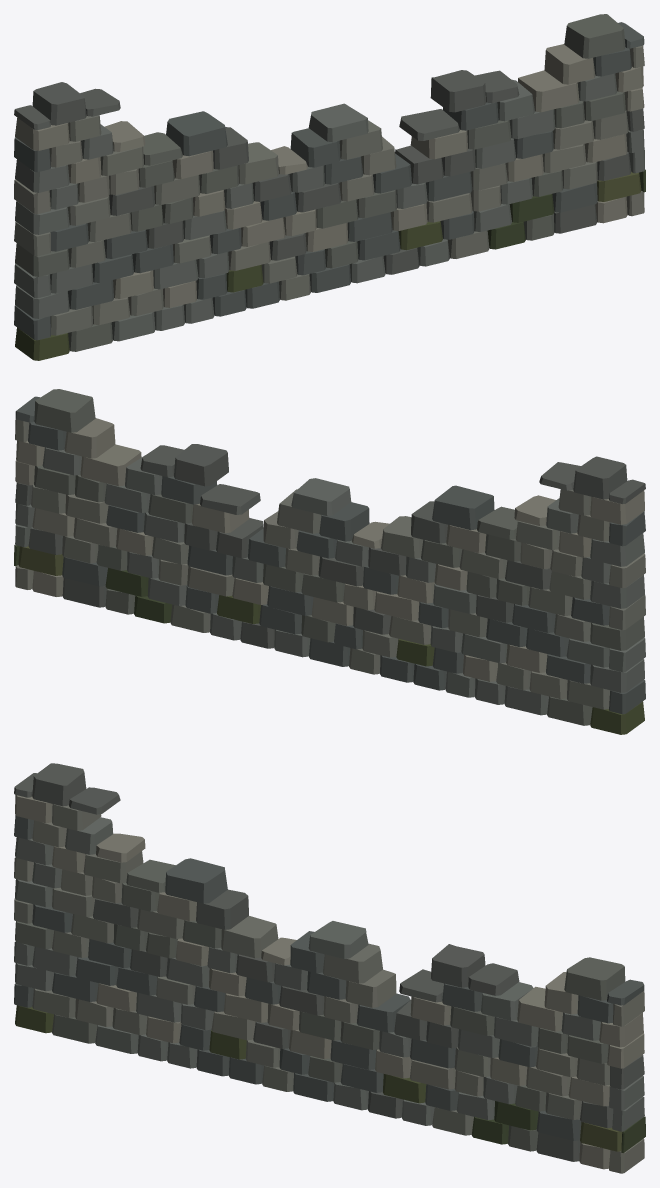
Rendered from fallen-keep-wall-b.glb.
3 renders of one model, top to bottom at view 1: azimuth 30°, elevation 25°; view 2: azimuth 150°, elevation 25°; view 3: azimuth 330°, elevation 25°, orthographic.
Parts seen in each view (by area): view 1: FallenKeep_CollapsedCurtain_b; view 2: FallenKeep_CollapsedCurtain_b; view 3: FallenKeep_CollapsedCurtain_b.
Part boxes in pixels (x1,y1,x2,y2): FallenKeep_CollapsedCurtain_b: (14,14,645,360); FallenKeep_CollapsedCurtain_b: (14,389,645,734); FallenKeep_CollapsedCurtain_b: (14,763,645,1173).
Size of the model in its own units: 14.02 by 5.52 by 0.9.
